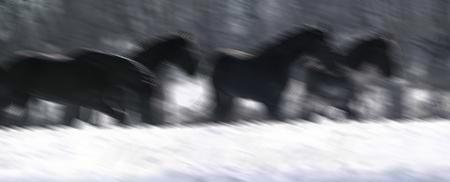horse: (201, 20, 346, 124), (292, 30, 399, 122)
